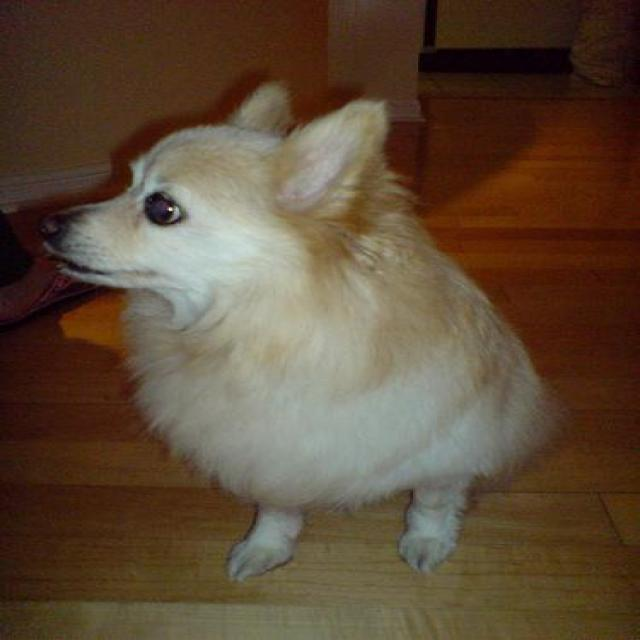sitting: (29, 75, 566, 584)
